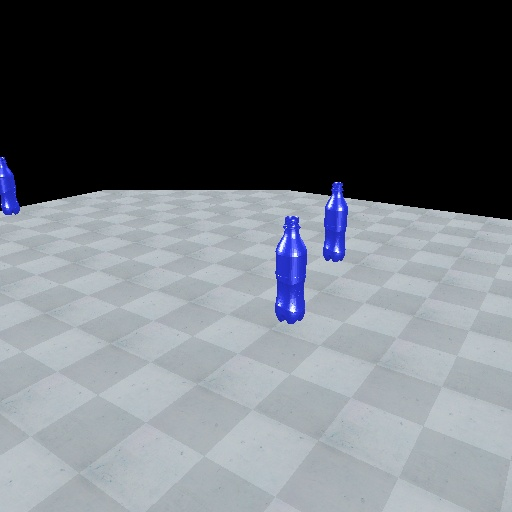bottle: (273, 214, 308, 326), (322, 180, 348, 264)
